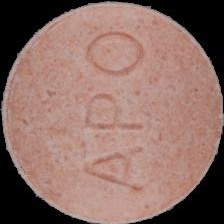35356-921: (0, 0, 224, 224)
